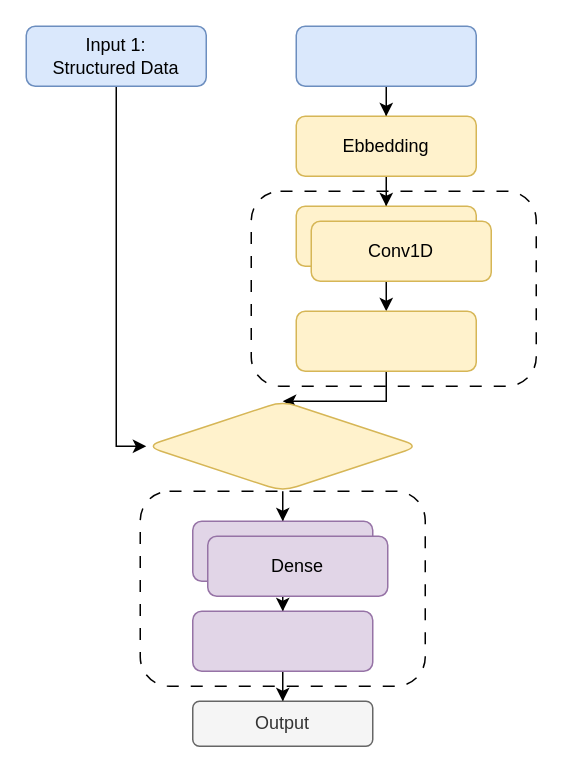
Some shapes in this 563 by 773 pixel diagram are drawn without their labels. Here are the shapes that lost their labels. From the top down, the centre of each, then its label:
(385,55): Input 2: Text Input
(385,340): Global Max Pooling
(282,445): Concatination
(282,640): Dropout
